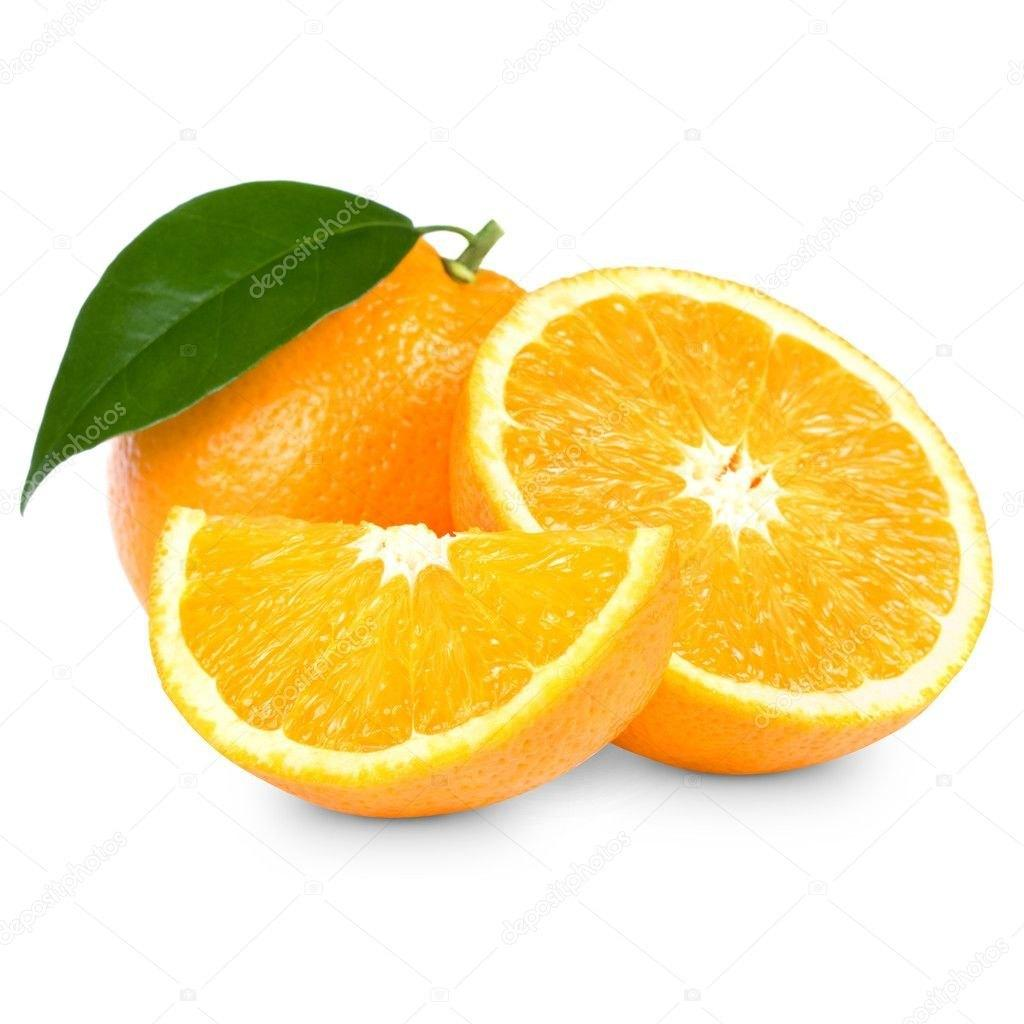non-mango: (3, 120, 1007, 883)
